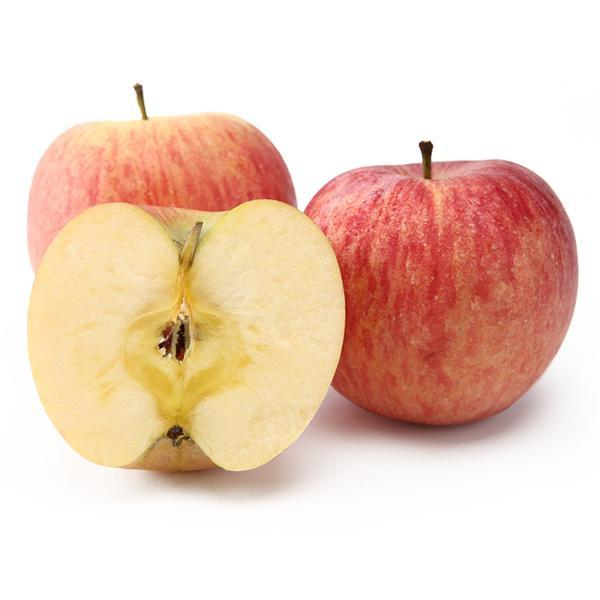apple: (310, 153, 580, 430), (19, 101, 310, 320)
